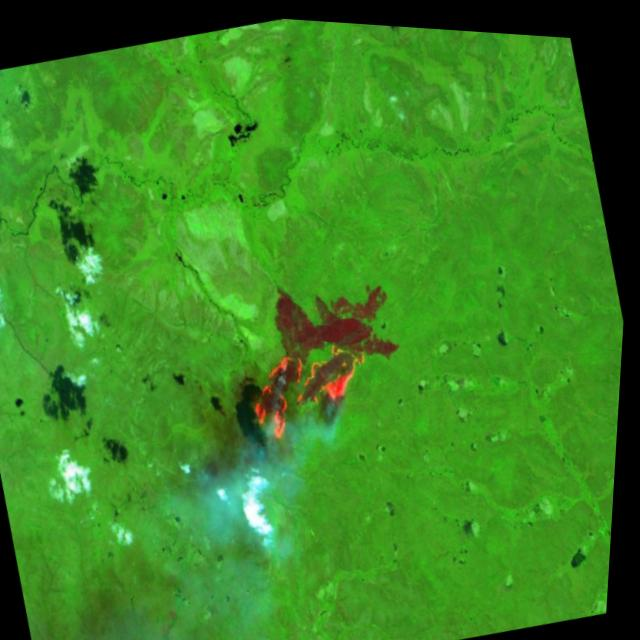fire: (237, 317, 390, 455)
